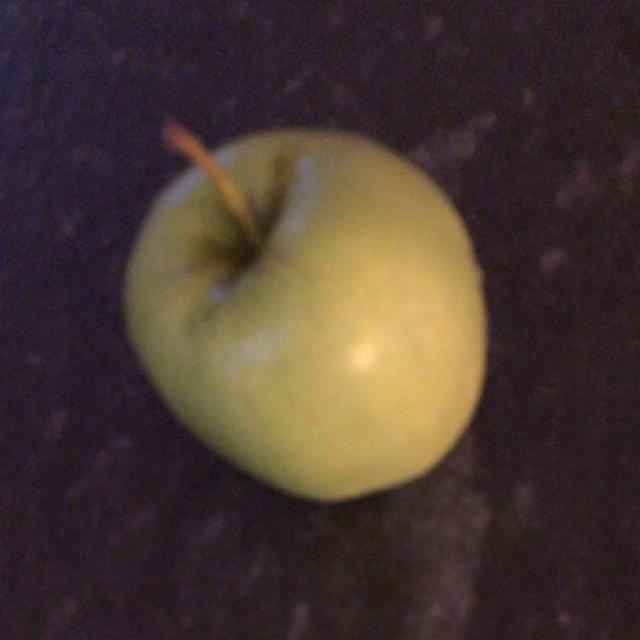apple: (133, 128, 481, 499)
